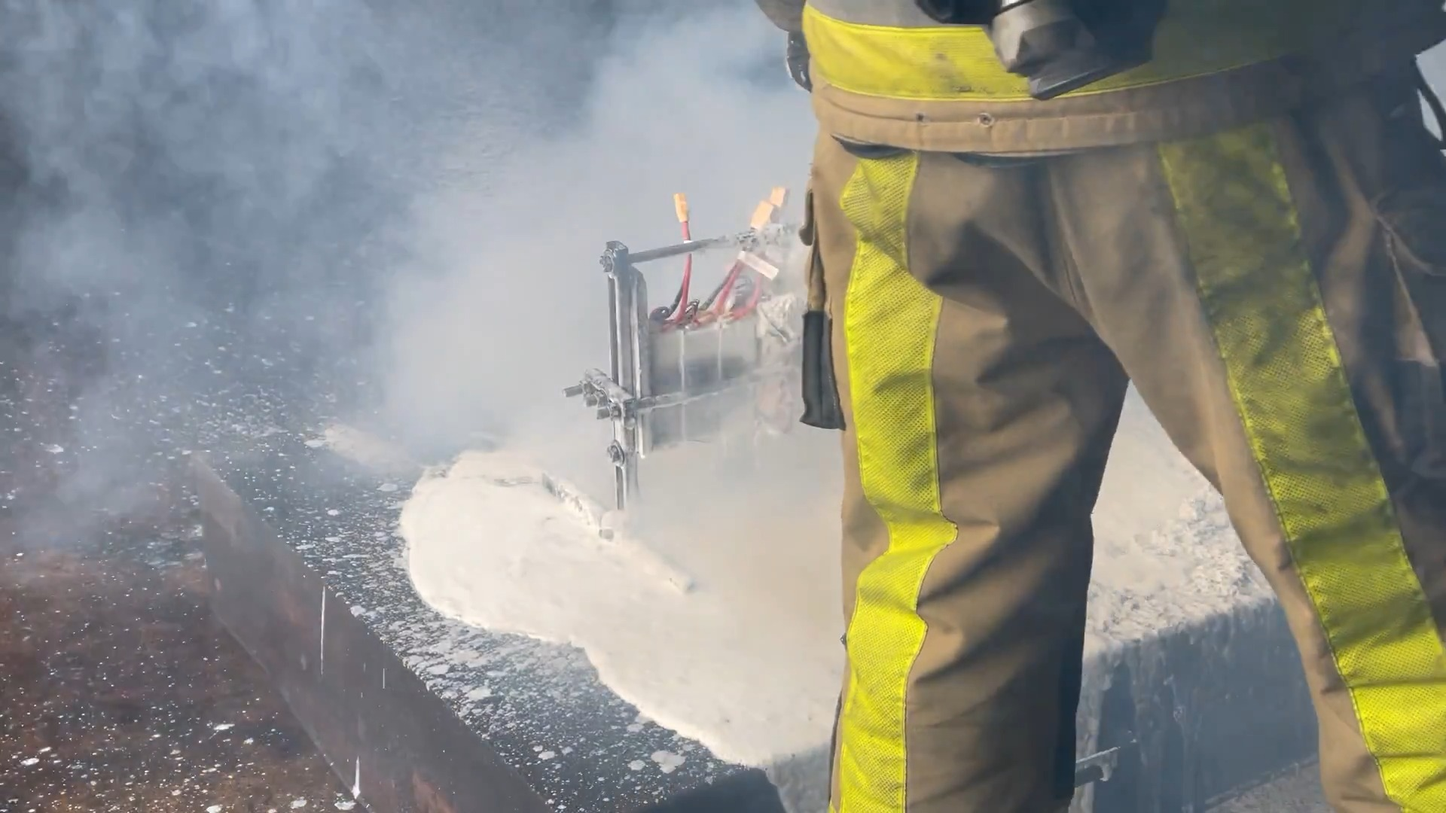smoke: (2, 1, 825, 473)
